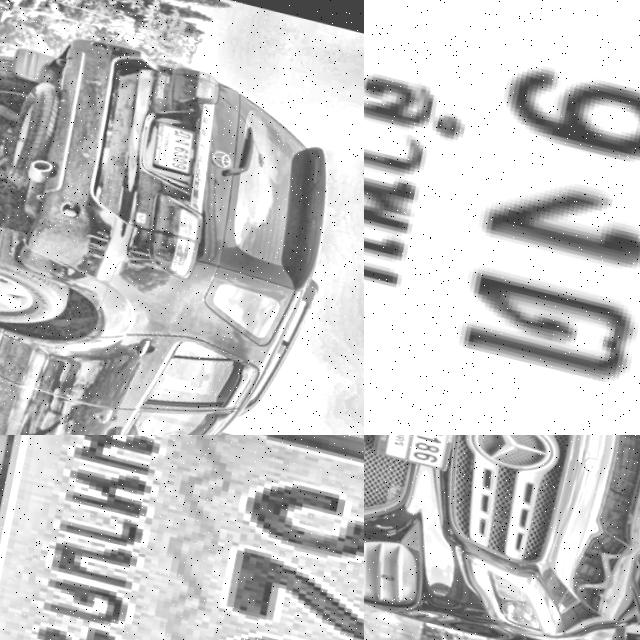license-plate: (364, 0, 640, 435), (0, 435, 364, 640), (372, 435, 460, 467), (149, 116, 199, 172)
